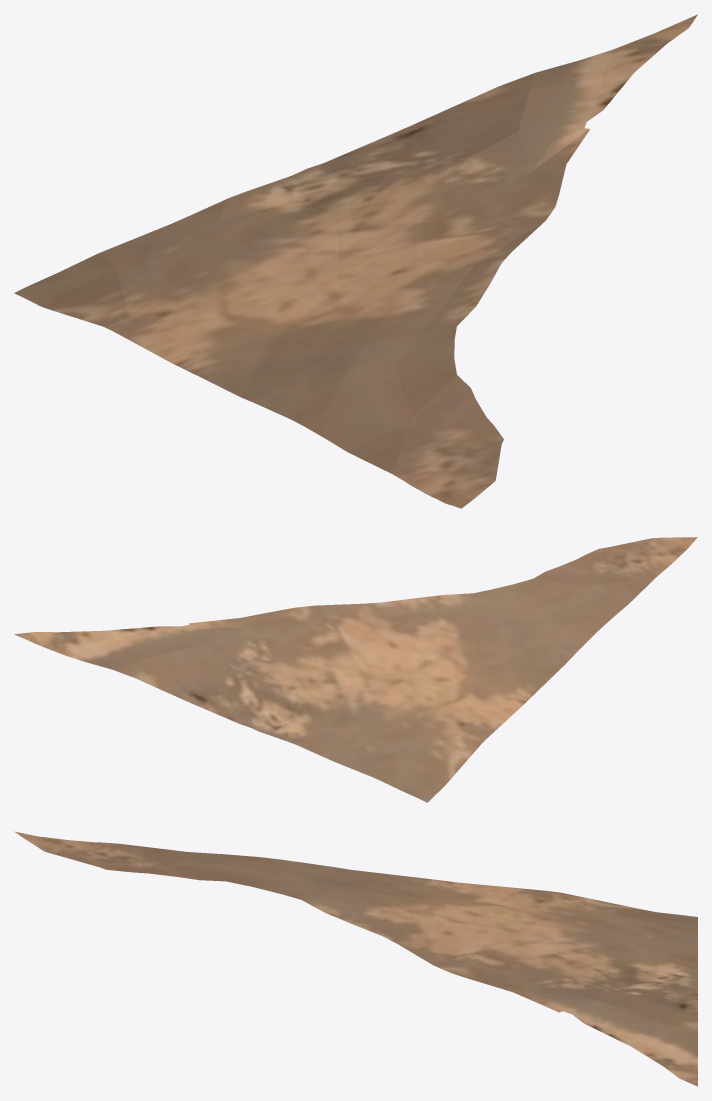
3 renders of one model, top to bottom at view 1: azimuth 30°, elevation 25°; view 2: azimuth 150°, elevation 25°; view 3: azimuth 270°, elevation 25°, orthographic. The views are drawn at different scales.
Bounding box in the file's own units: 0.6607 × 0.1034 × 0.7488.
1 material, 1 textured.
